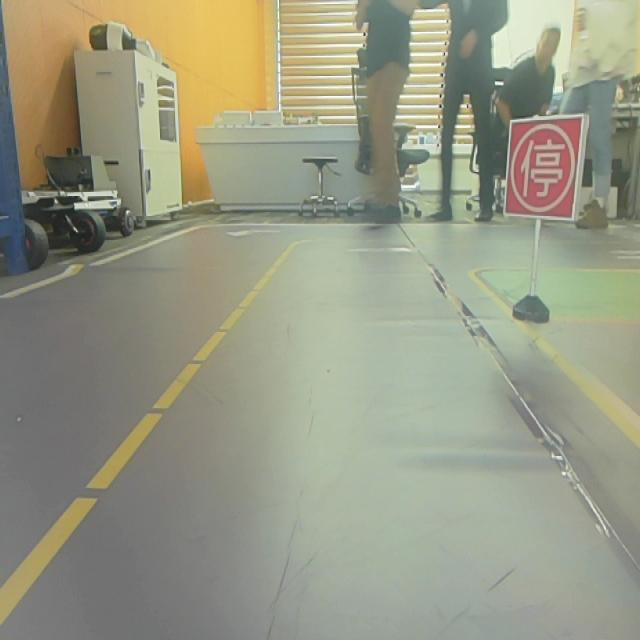left_lane: (0, 243, 296, 627)
right_lane: (473, 274, 640, 452)
